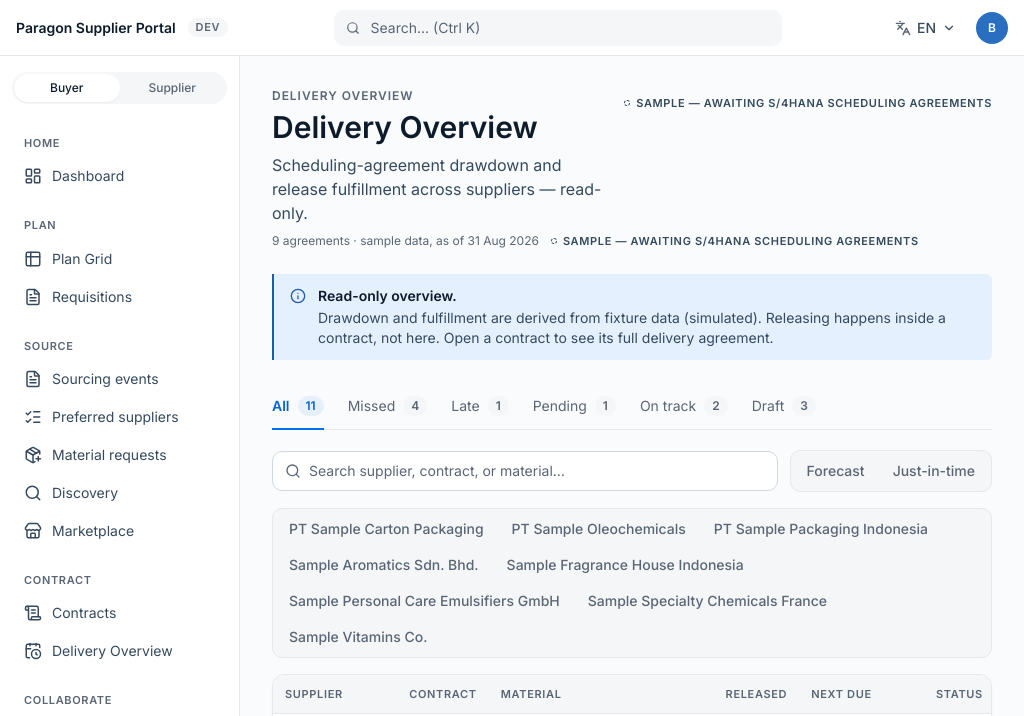
Test: BuyerDeliveryAgreements — at-scale exception-first roll-up › search narrows by contract / material
This screenshot has width=1024, height=716.
Type "ctr-006" into the field with placeholder "Search supplier, contract, or material…". click: {"x": 537, "y": 471}
box: [309,461,765,481]
(page scrolled)
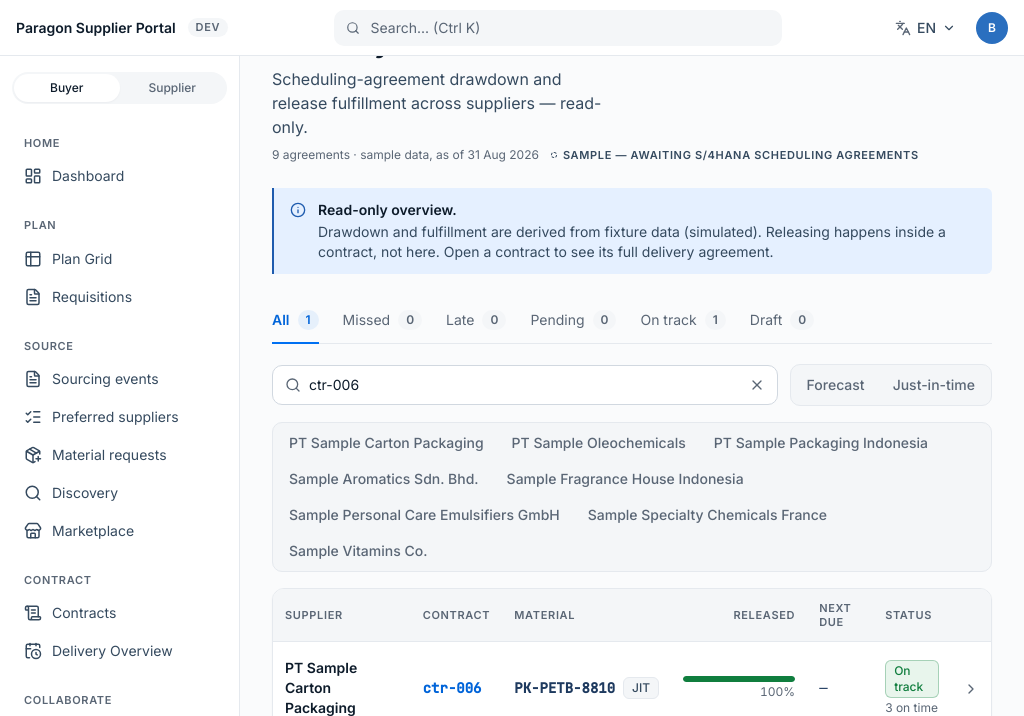
Expected: the text "ctr-006" is shown, [423,679,482,697]
